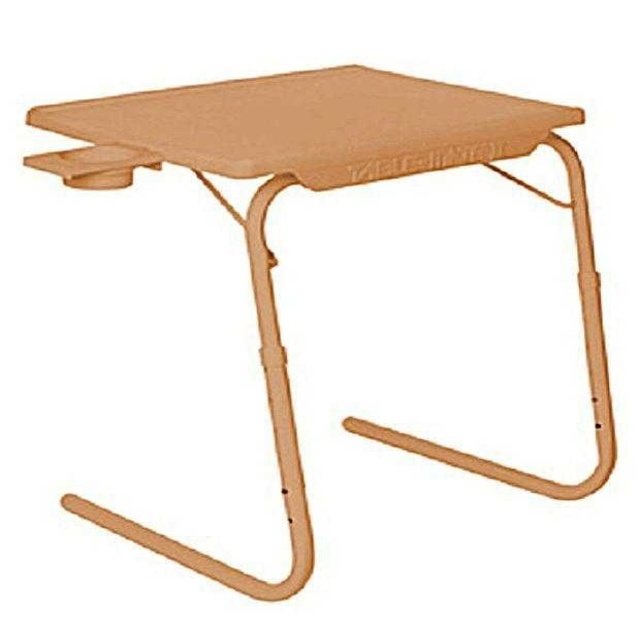obstacle: (25, 65, 615, 600)
